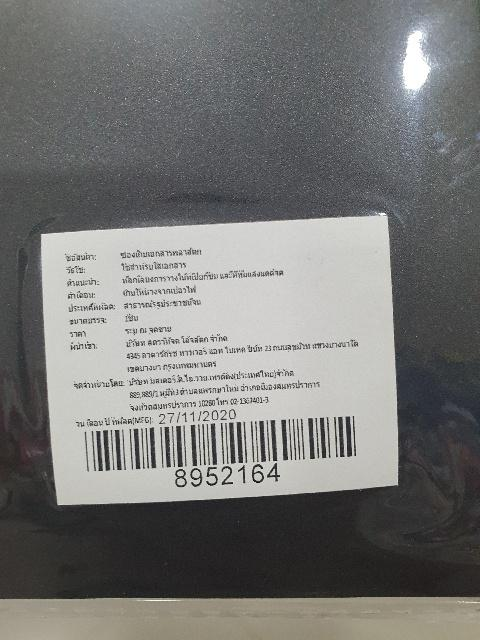Barcode: (71, 404, 368, 489)
